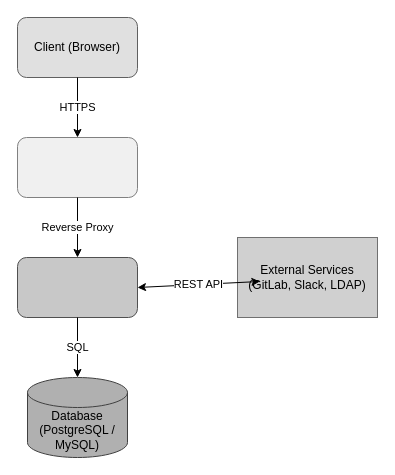
The diagram is 395 pixels wide and 475 high, and some of its shapes have lost their labels. Here are the shapes that lost their labels. From the top down, the centre of each, then its label:
At point 77,167: "Web Server (Nginx / Apache)".
At point 77,287: "Backend API (Django / SpringBoot)".
